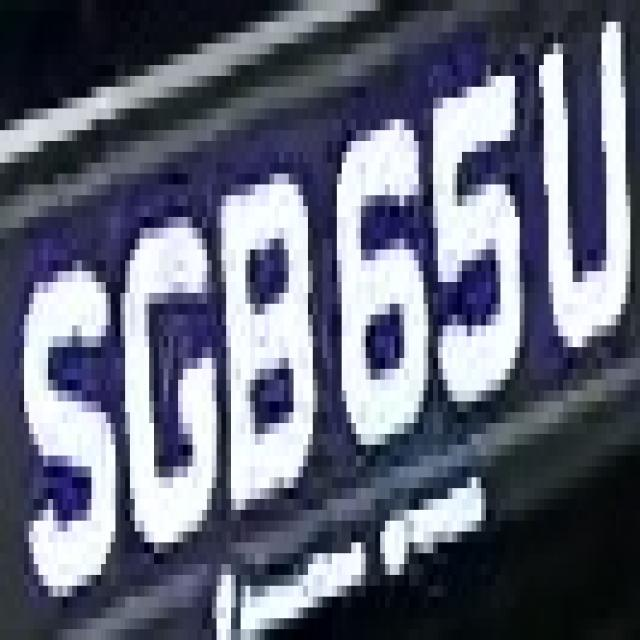5: (414, 33, 539, 412)
6: (322, 120, 448, 467)
B: (212, 184, 322, 564)
G: (116, 217, 222, 597)
S: (15, 250, 125, 618)
U: (530, 44, 636, 412)
